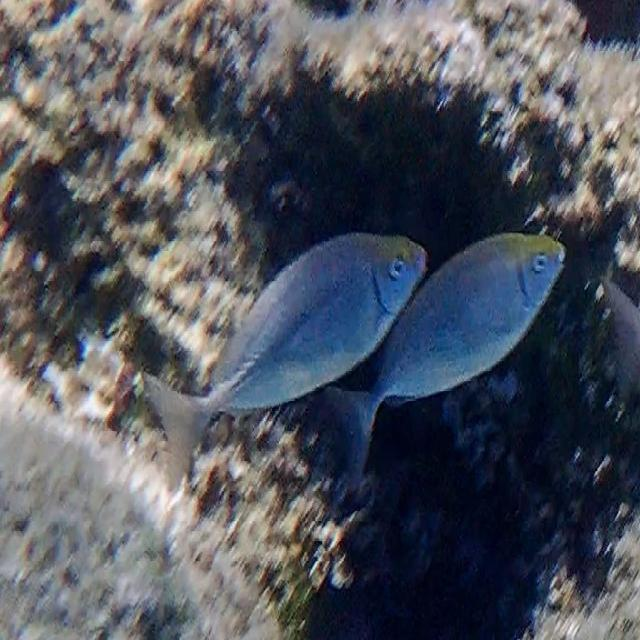Sokar Baligi: (147, 213, 438, 492)
